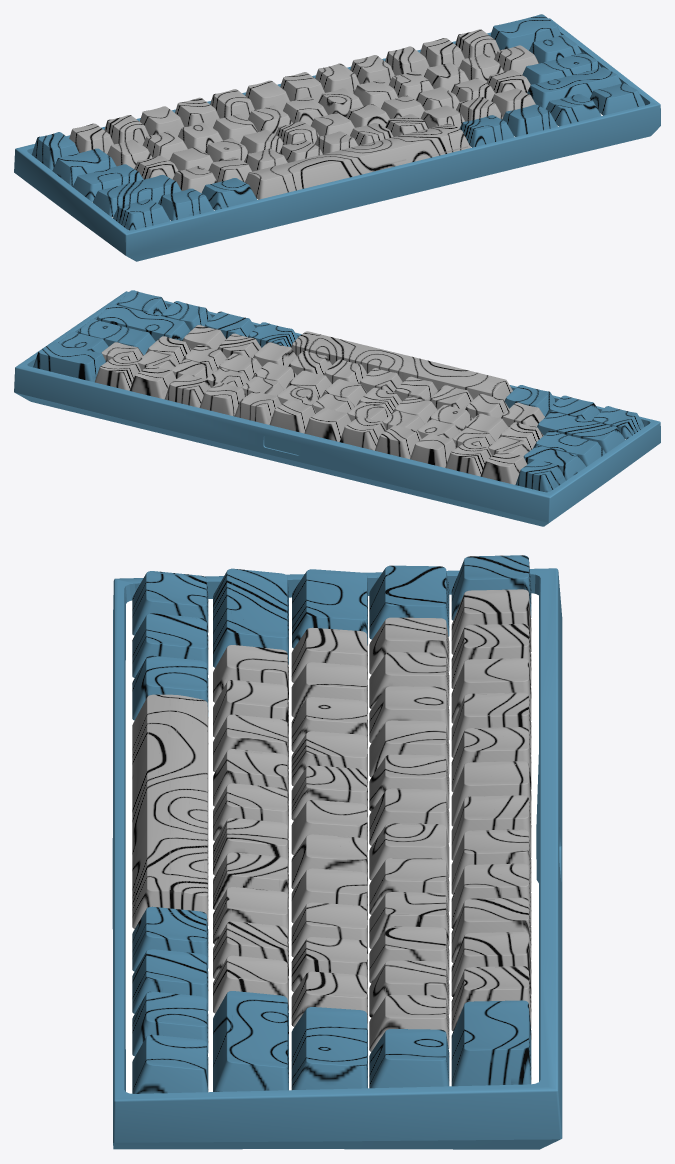
File: blue_white_wavy_mechanical_keyboard.glb
3 renders of one model, top to bottom at view 1: azimuth 30°, elevation 25°; view 2: azimuth 150°, elevation 25°; view 3: azimuth 270°, elevation 25°, orthographic. The views are drawn at different scales.
Parts seen in each view (by area): view 1: Cube.004_13, Cube.003_12; view 2: Cube.004_13, Cube.003_12; view 3: Cube.004_13, Cube.003_12, Plane.001_15.
Boxes of the visible parts, bbox=[...] form: Cube.004_13: bbox=[32, 14, 645, 230]; Cube.003_12: bbox=[14, 18, 660, 261]; Cube.004_13: bbox=[33, 290, 645, 492]; Cube.003_12: bbox=[14, 291, 660, 526]; Cube.004_13: bbox=[132, 555, 531, 1093]; Cube.003_12: bbox=[112, 568, 562, 1149]; Plane.001_15: bbox=[125, 593, 538, 1093].
Bounding box in the file's own units: 0.5521 × 0.0496 × 0.2002.
Materials: 5 (2 with a texture image).
